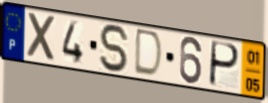4: (61, 20, 86, 66)
6: (178, 36, 203, 86)
D: (132, 27, 165, 80)
P: (207, 39, 241, 90)
S: (98, 23, 132, 75)
X: (27, 10, 59, 64)
